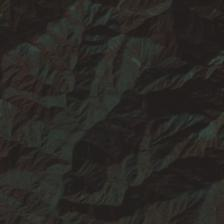landslides: (132, 58, 142, 70), (108, 44, 116, 57)
